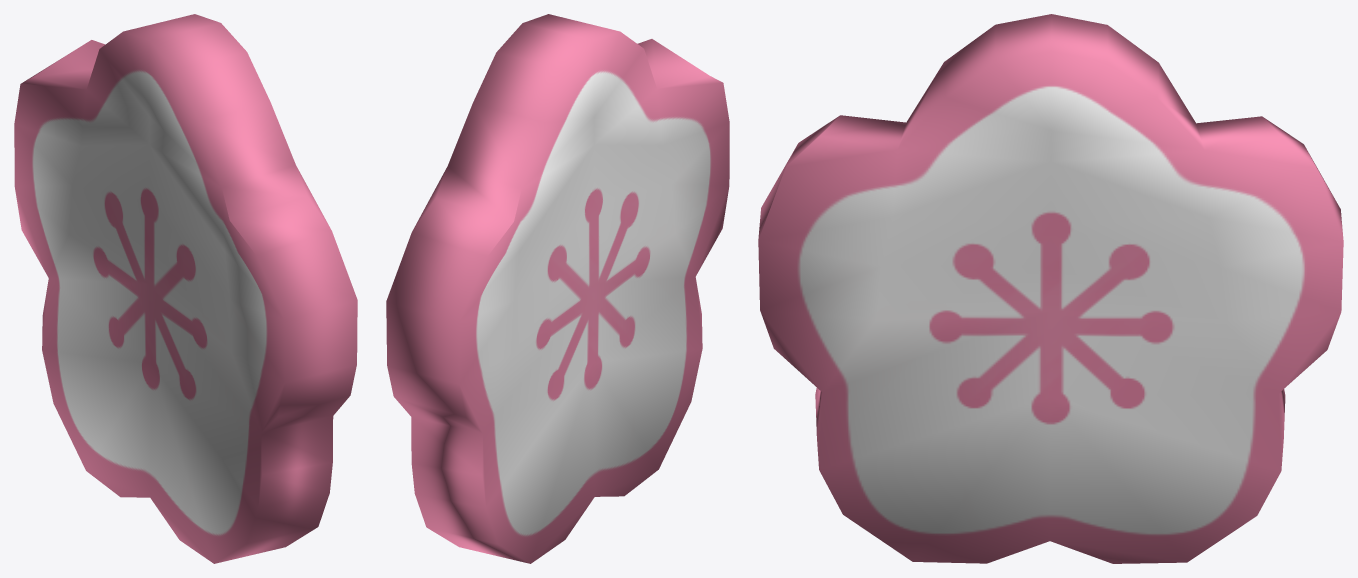
Rendered from hana1.fbx.
3 renders of one model, left to right at view 1: azimuth 30°, elevation 25°; view 2: azimuth 150°, elevation 25°; view 3: azimuth 270°, elevation 25°, orthographic. The views are drawn at different scales.
Visible parts, largest first — view 1: pasted__pasted__pasted__pasted__polySurface1; view 2: pasted__pasted__pasted__pasted__polySurface1; view 3: pasted__pasted__pasted__pasted__polySurface1.
Part boxes in pixels (x1,y1,x2,y2): pasted__pasted__pasted__pasted__polySurface1: (14, 14, 357, 563); pasted__pasted__pasted__pasted__polySurface1: (386, 14, 729, 563); pasted__pasted__pasted__pasted__polySurface1: (758, 14, 1343, 563).
Bounding box in the file's own units: 0.2926 × 1.41 × 1.46.
Materials: 1 (1 with a texture image).
